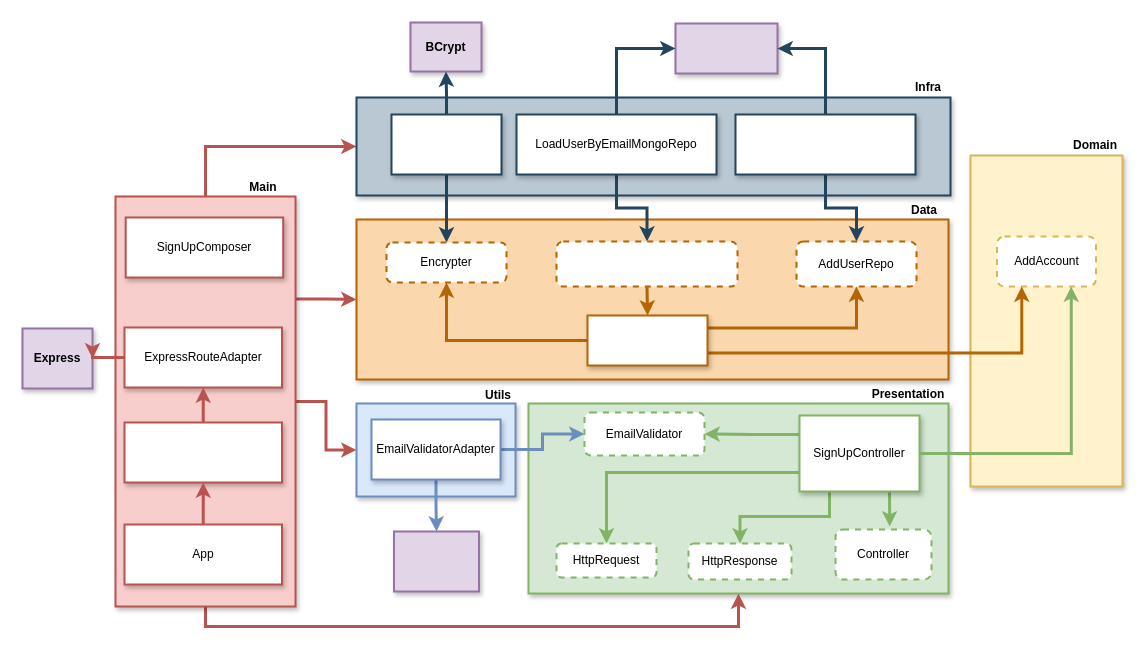
Some shapes in this 1148 by 653 pixel diagram are drawn without their labels. The shapes that lost their labels are listed below. From the top down, each one's centre as x and y in pixels, then its label:
(727,49): MongoDB
(447,145): BcriyptAdapter
(826,145): AddUserMongoRepo
(646,263): LoadUserByEmailRepo
(648,341): DbAddAccount
(203,453): SignUpRouter
(437,562): Validator
